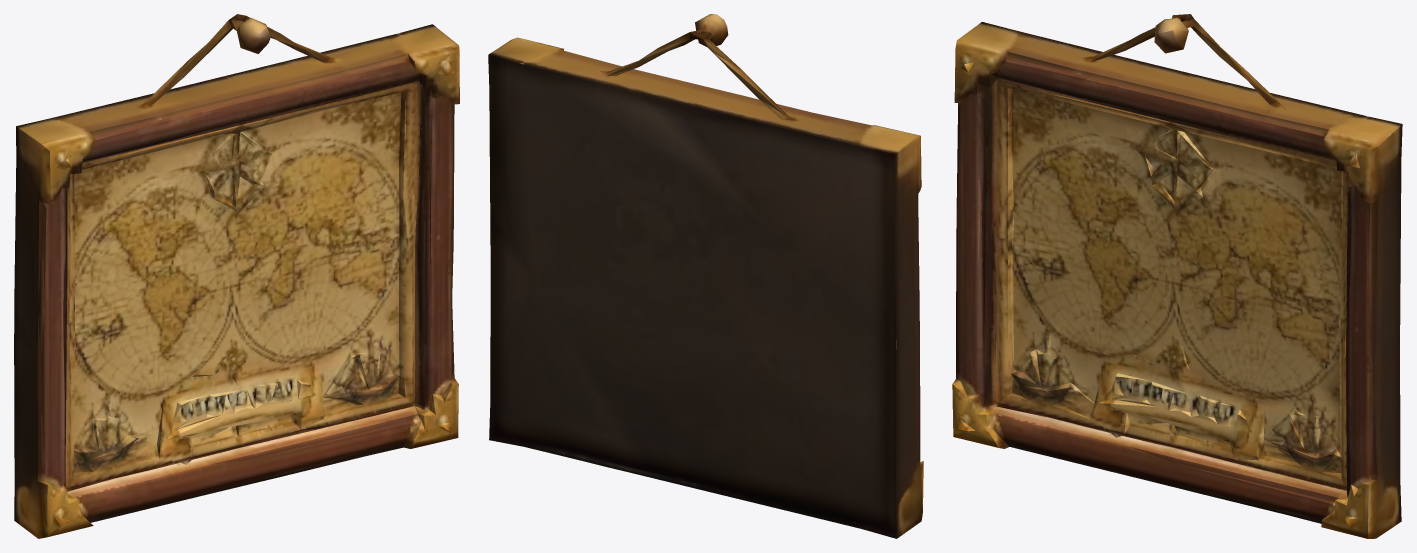
The model's file is pic07.glb.
3 renders of one model, left to right at view 1: azimuth 30°, elevation 25°; view 2: azimuth 150°, elevation 25°; view 3: azimuth 330°, elevation 25°, orthographic. The views are drawn at different scales.
Bounding box in the file's own units: 0.2638 × 0.2803 × 0.0385.
1 material, 1 textured.
